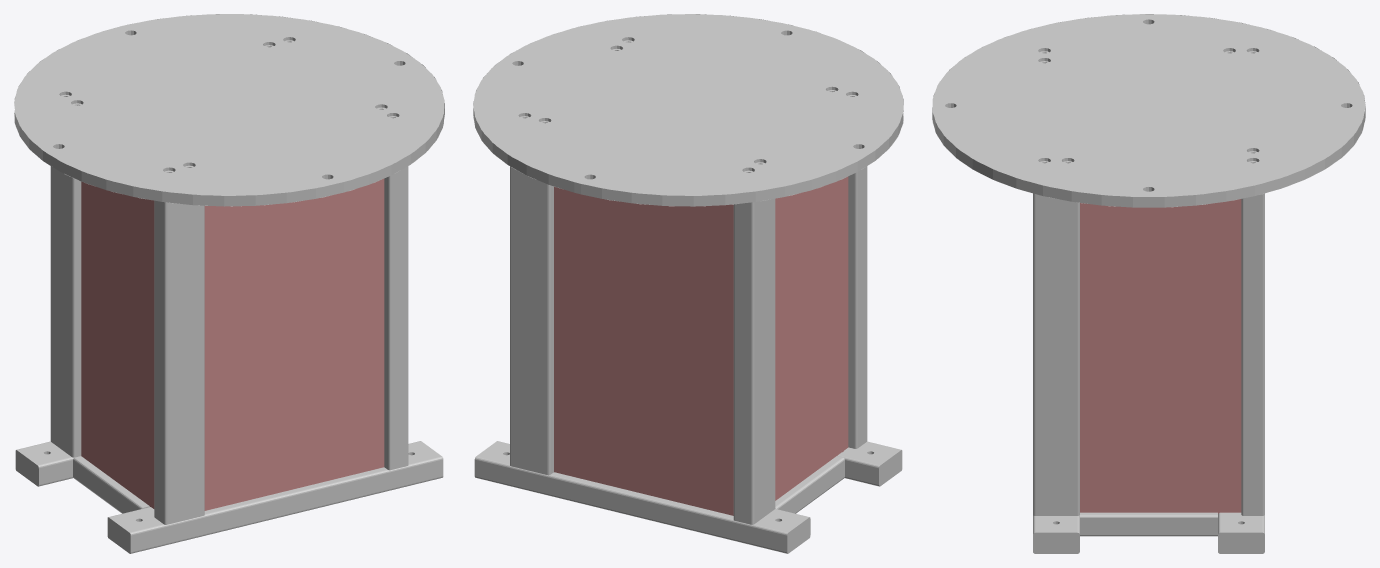
Rendered from pedestal.dae.
3 renders of one model, left to right at view 1: azimuth 30°, elevation 25°; view 2: azimuth 150°, elevation 25°; view 3: azimuth 270°, elevation 25°, orthographic.
Parts seen in each view (by area): view 1: Pedestal; view 2: Pedestal; view 3: Pedestal.
Boxes of the visible parts, x1,y1,x2,y2 form: Pedestal: (14, 14, 444, 553); Pedestal: (473, 14, 903, 553); Pedestal: (932, 14, 1365, 553).
Bounding box in the file's own units: 0.3698 × 0.3698 × 0.35.
